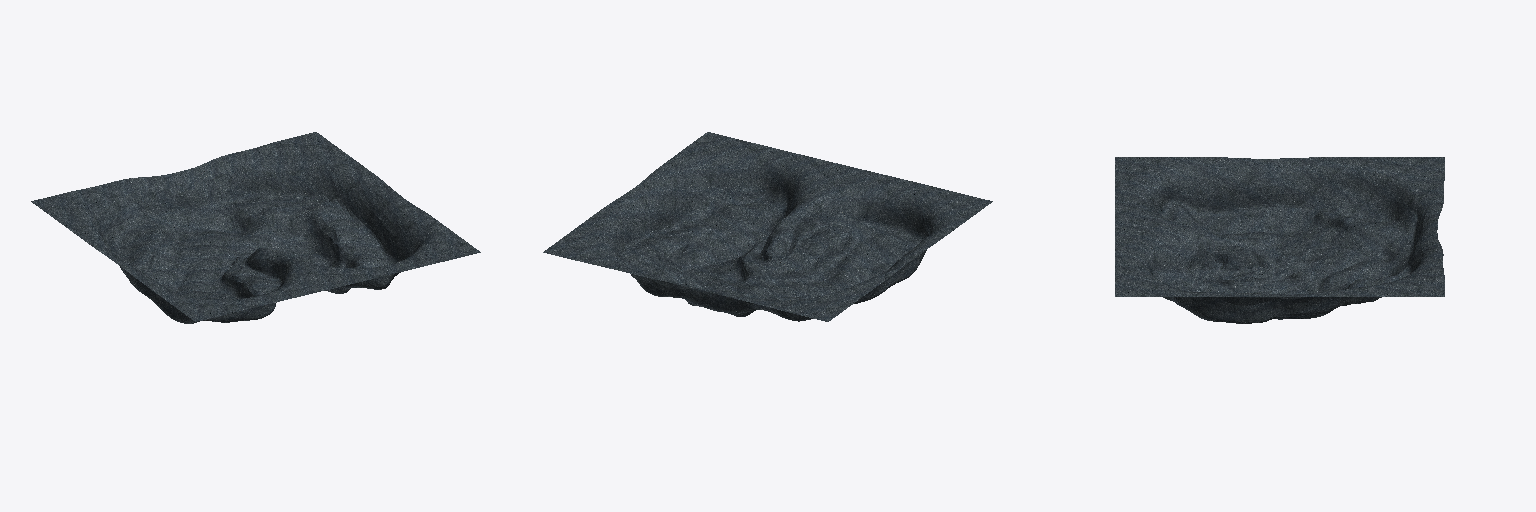
The picture shows the model from 3 angles: view 1: azimuth 30°, elevation 25°; view 2: azimuth 150°, elevation 25°; view 3: azimuth 270°, elevation 25°; orthographic projection.
Parts seen in each view (by area): view 1: Plane; view 2: Plane; view 3: Plane.
Boxes of the visible parts, box(x1,y1,x2,y2) form: Plane: box(31, 132, 480, 323); Plane: box(543, 132, 992, 321); Plane: box(1115, 157, 1444, 323).
Size of the model in its own units: 13.37 by 2.63 by 13.37.
1 materials, 1 textured.